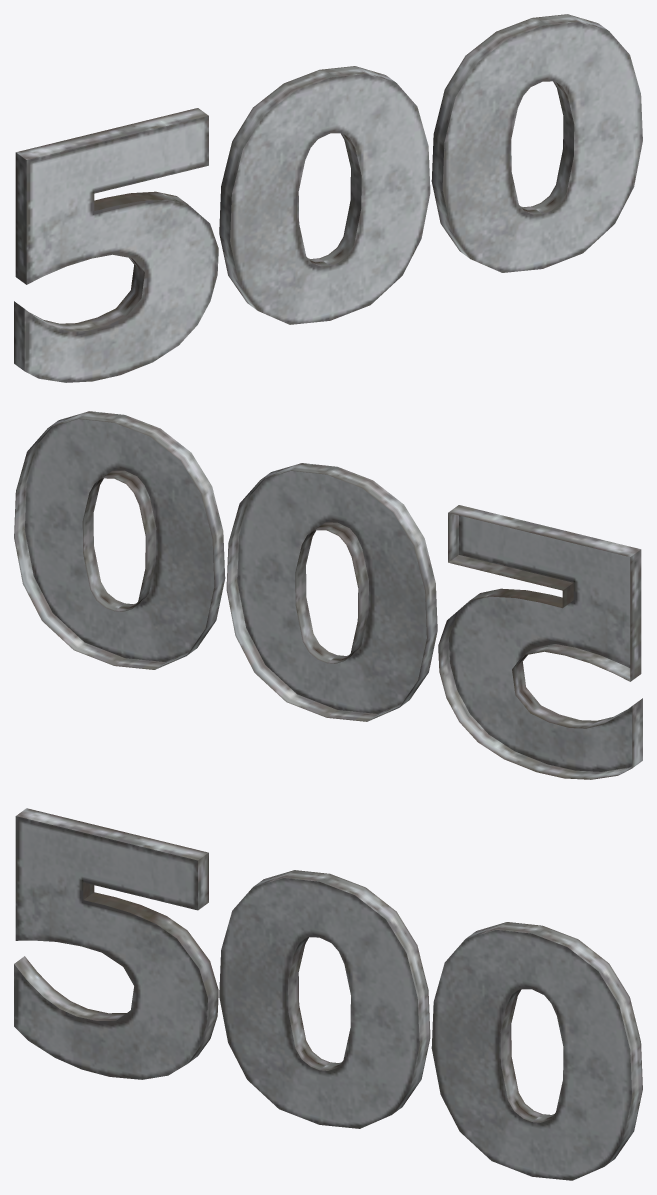
The model's file is categorySign500.FBX.
3 views of the same model, one above another, from view 1: azimuth 30°, elevation 25°; view 2: azimuth 150°, elevation 25°; view 3: azimuth 330°, elevation 25° (orthographic).
Parts seen in each view (by area): view 1: SM_CategorySign500; view 2: SM_CategorySign500; view 3: SM_CategorySign500.
Boxes of the visible parts, <box> form: SM_CategorySign500: <box>14,14,642,382</box>; SM_CategorySign500: <box>14,411,642,779</box>; SM_CategorySign500: <box>14,808,642,1180</box>.
Bounding box in the file's own units: 6.61 × 2.52 × 0.2.
Materials: 1 (1 with a texture image).
